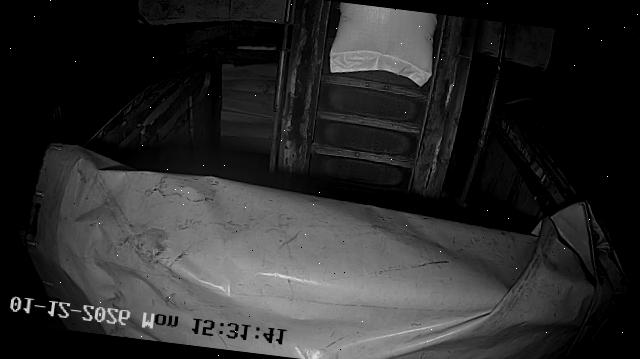bag: (328, 1, 439, 86)
